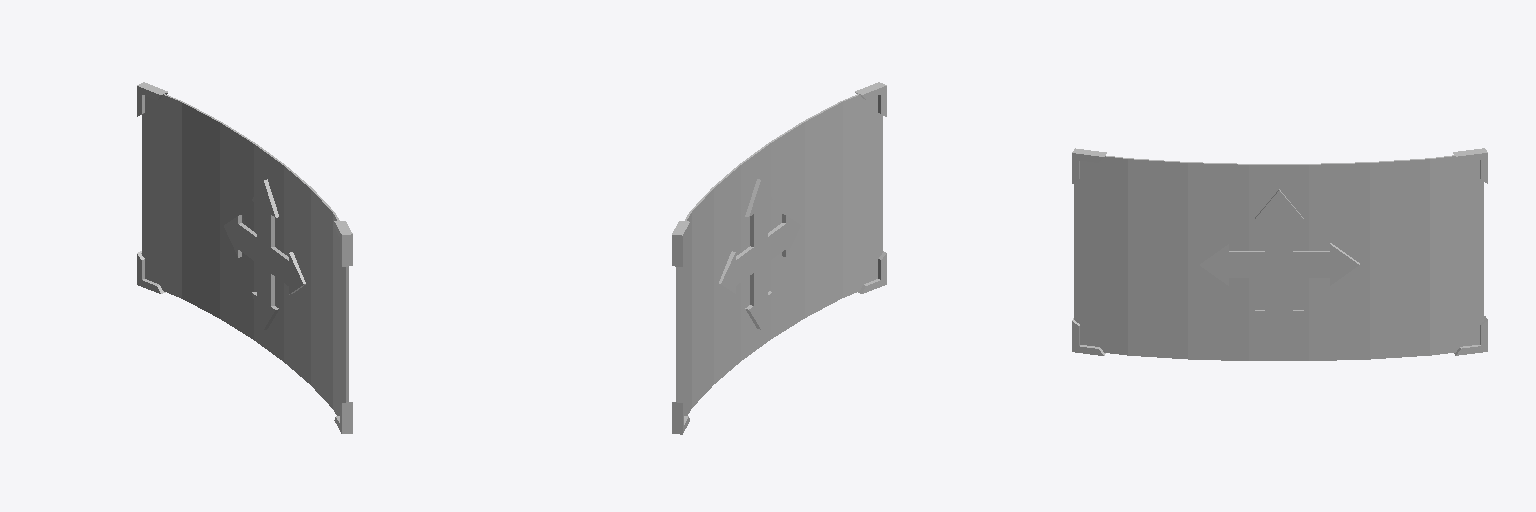
The model's file is Shield_Ground_Curve.obj.
3 renders of one model, left to right at view 1: azimuth 30°, elevation 25°; view 2: azimuth 150°, elevation 25°; view 3: azimuth 270°, elevation 25°, orthographic.
Parts seen in each view (by area): view 1: polySurface83; view 2: polySurface83; view 3: polySurface83.
Boxes of the visible parts, box(x1,y1,x2,y2) form: polySurface83: box(137, 82, 352, 433); polySurface83: box(672, 82, 886, 434); polySurface83: box(1072, 148, 1487, 360).
Size of the model in its own units: 1.07 by 5.96 by 11.3.